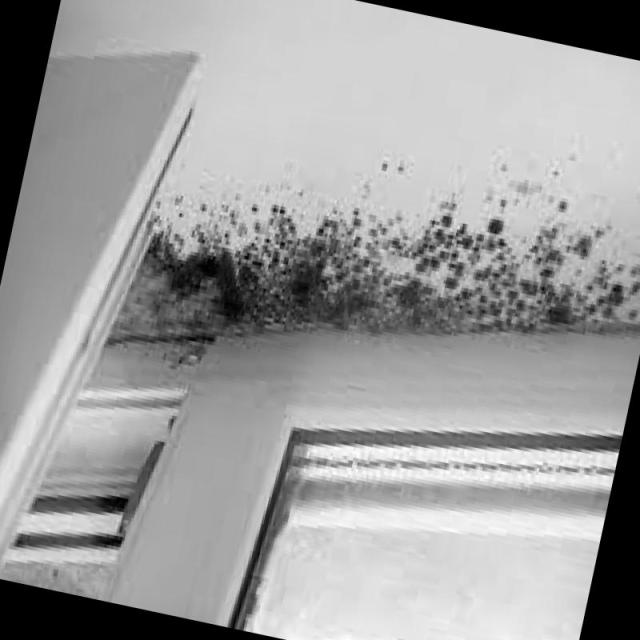stain marks: (75, 92, 640, 363)
